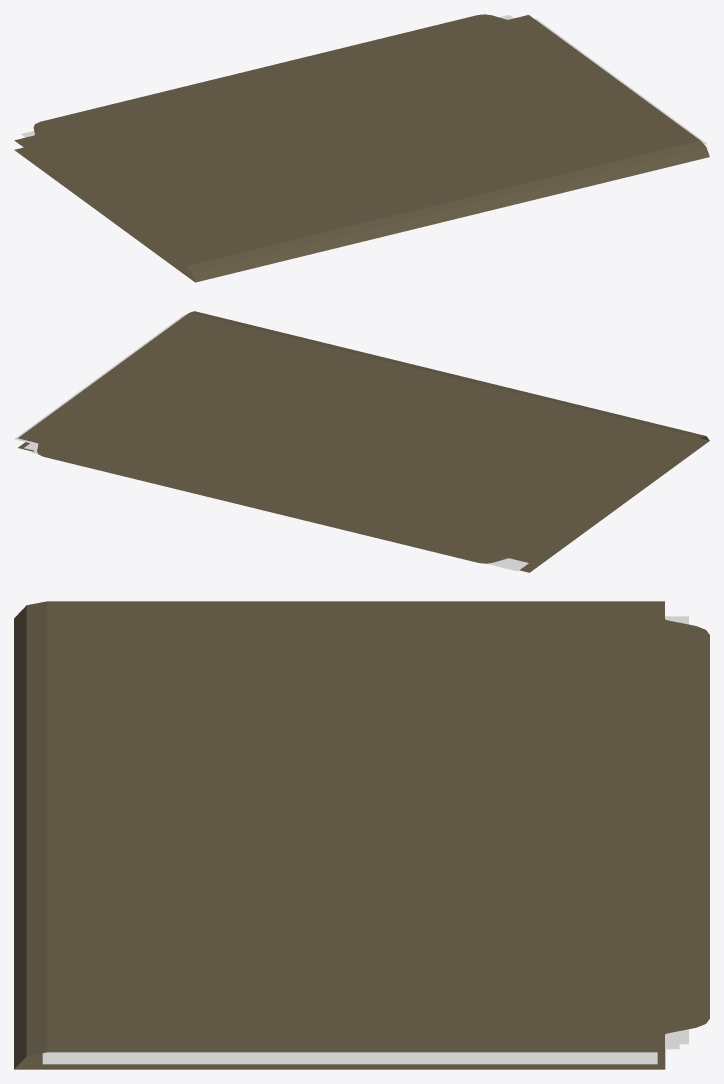
File: SM_FileFolder.fbx
3 views of the same model, one above another, from view 1: azimuth 30°, elevation 25°; view 2: azimuth 150°, elevation 25°; view 3: azimuth 270°, elevation 25° (orthographic). The views are drawn at different scales.
Parts seen in each view (by area): view 1: SM_FileFolder; view 2: SM_FileFolder; view 3: SM_FileFolder.
Part boxes in pixels (bbox=[...]): SM_FileFolder: bbox=[14, 14, 709, 282]; SM_FileFolder: bbox=[14, 311, 709, 572]; SM_FileFolder: bbox=[14, 601, 709, 1069].
Bounding box in the file's own units: 37.88 × 0.666 × 24.43.
